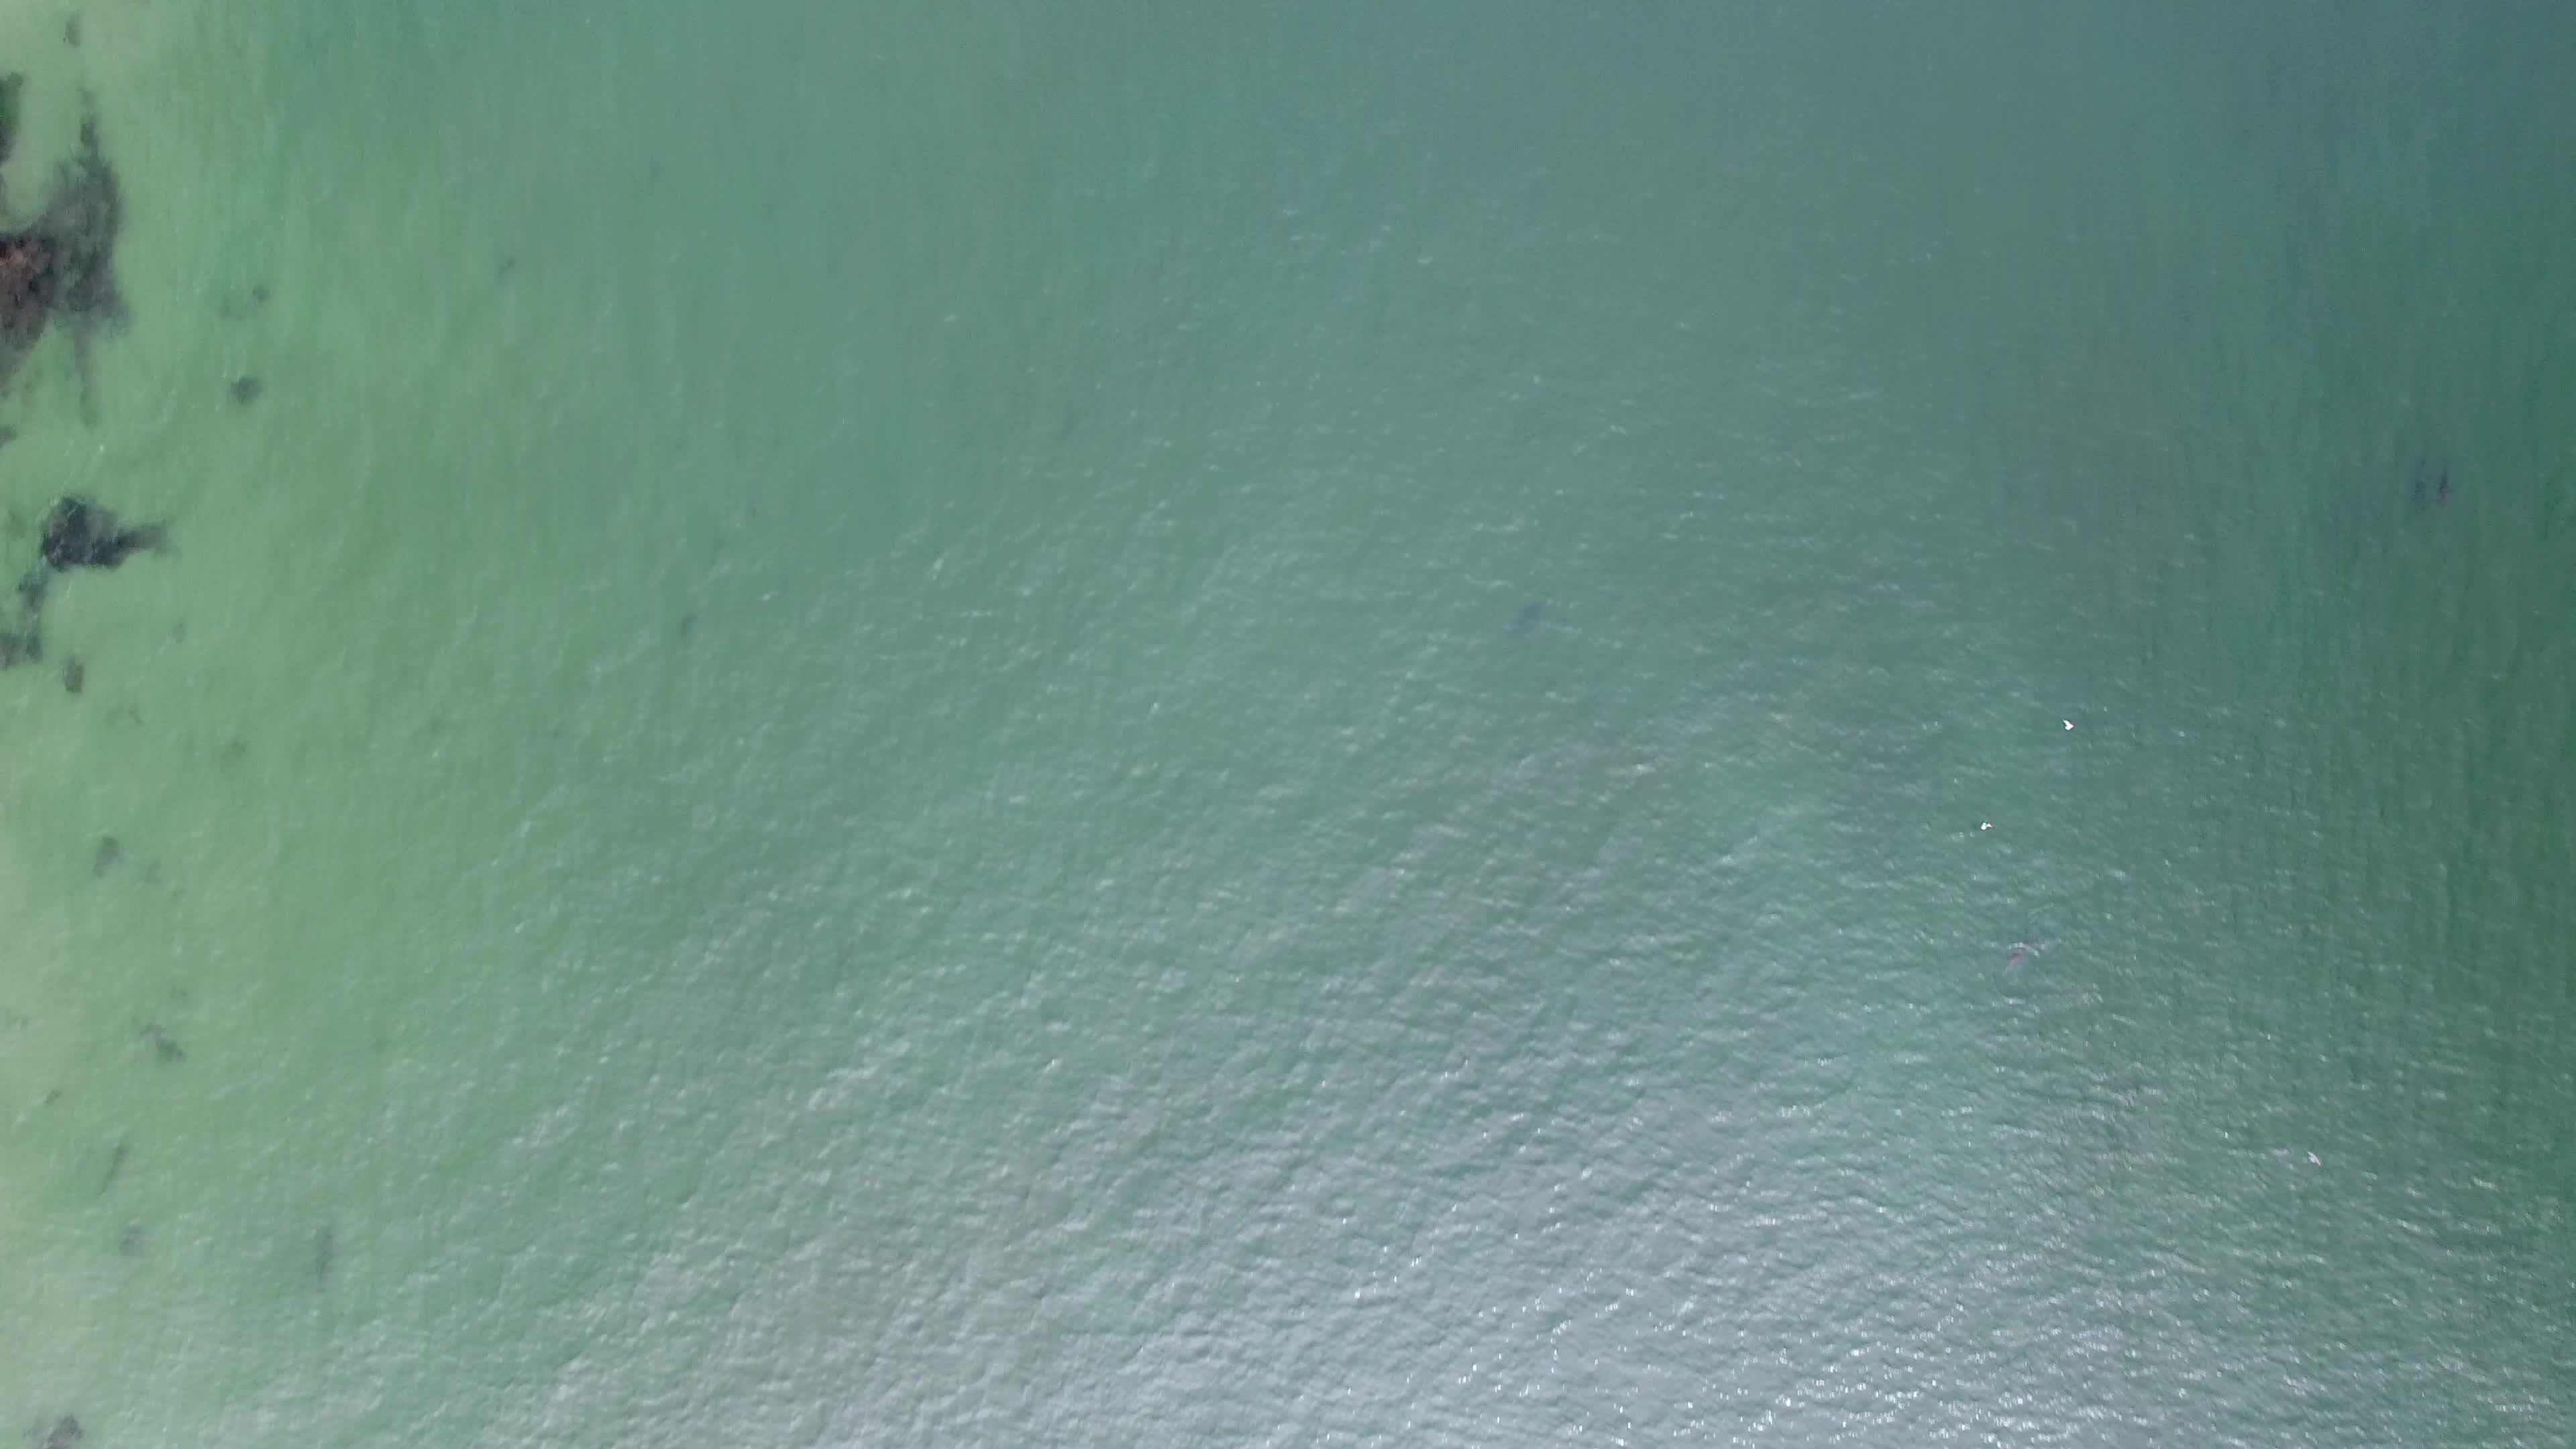dolphin: (2431, 451, 2465, 517)
